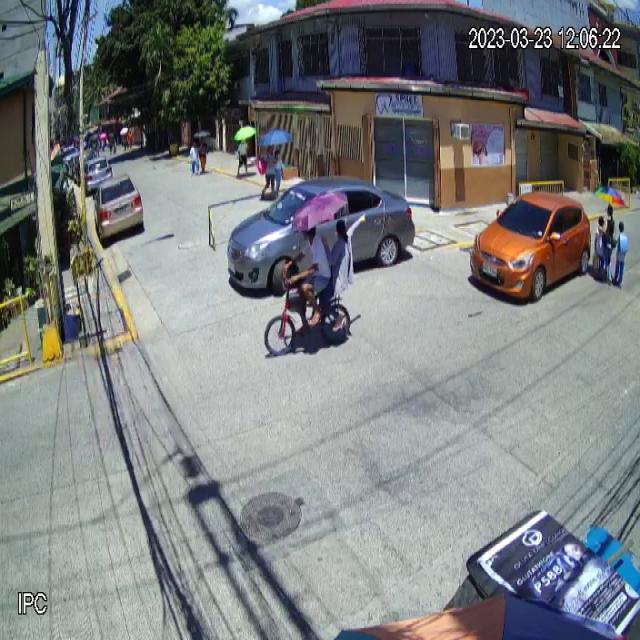Car: (226, 173, 414, 294), (469, 191, 592, 302)
